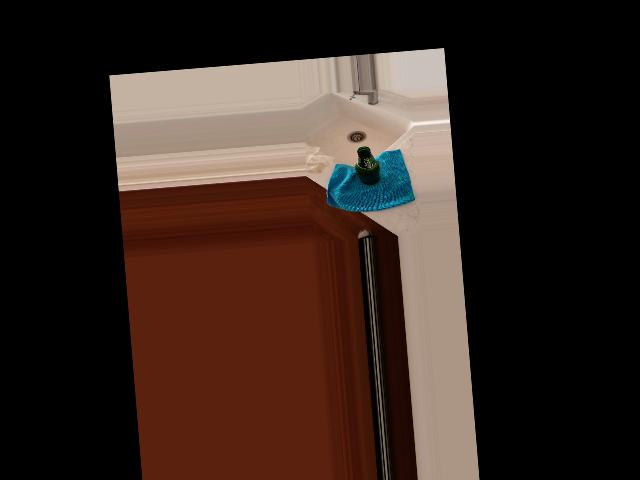beer: (353, 145, 380, 186)
